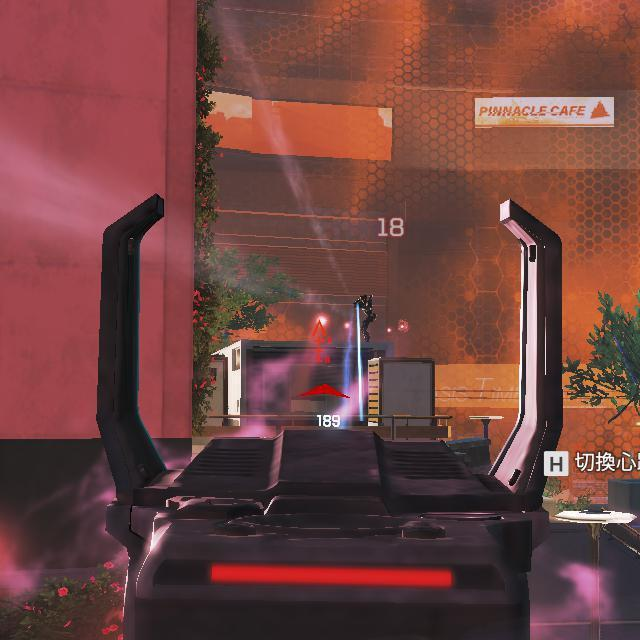avatar: (353, 291, 378, 341)
